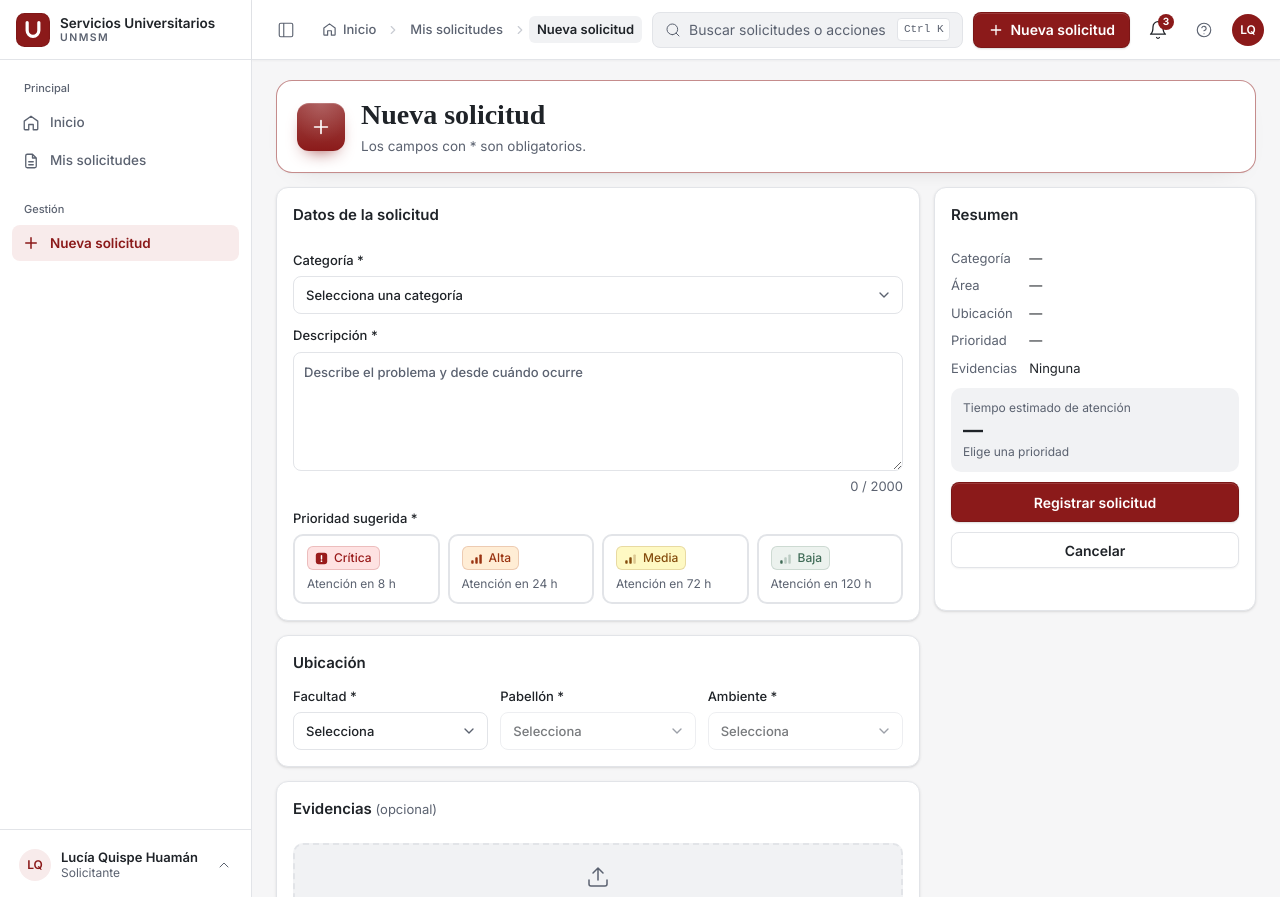
Test: Borrador de «Nueva solicitud» › guarda lo escrito sin que la persona tenga que hacer nada
Type "El foco del pasadizo parpadea desde ayer en la noche" into the text box labelled "Descripción *" at (598, 412), box [293,352,903,471]
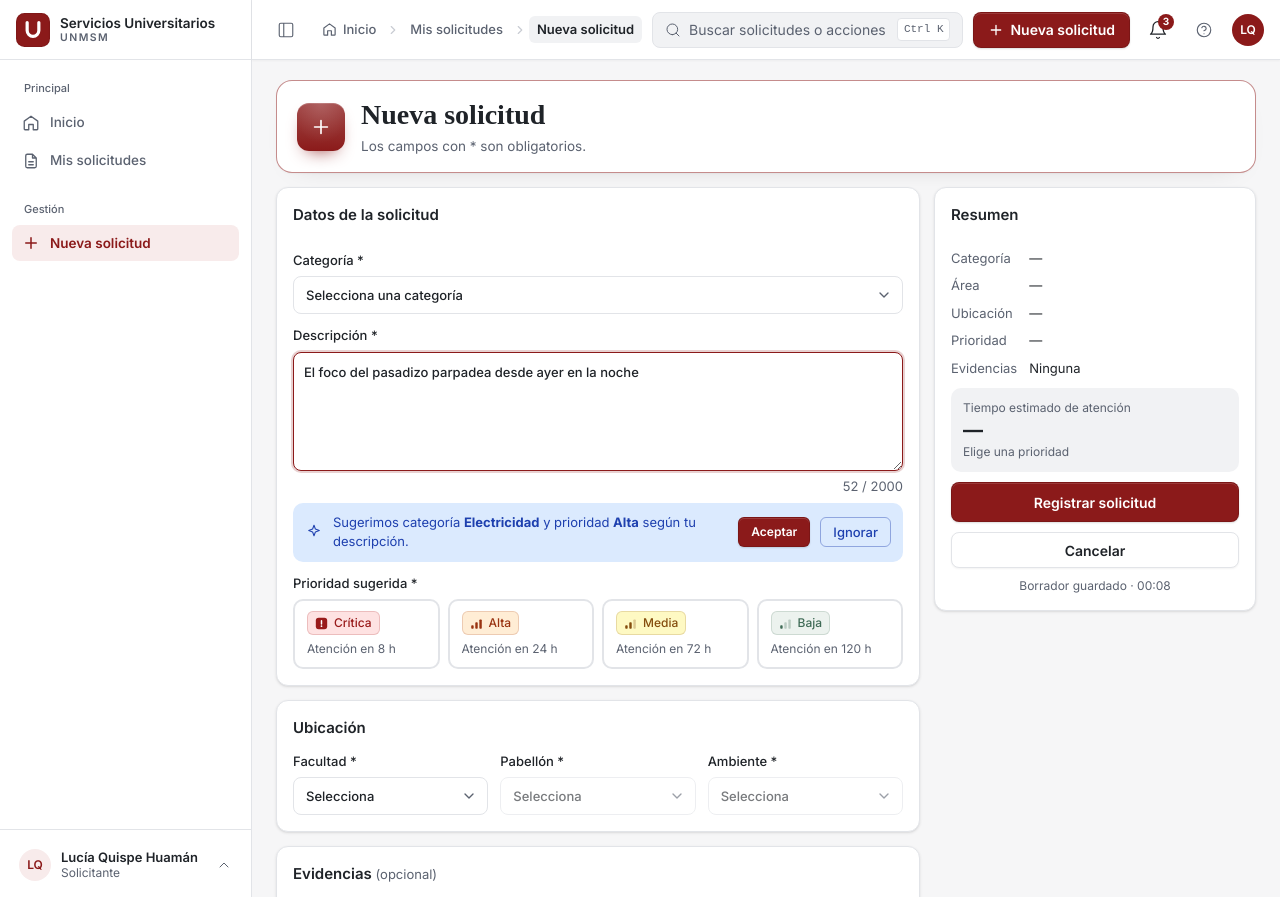
Check: the text "Borrador guardado · 00:08" is shown, box [1019,578,1171,593]
